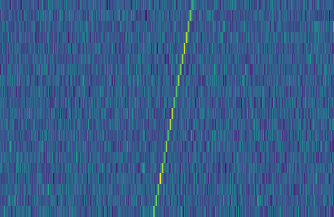signal: (149, 0, 198, 217)
